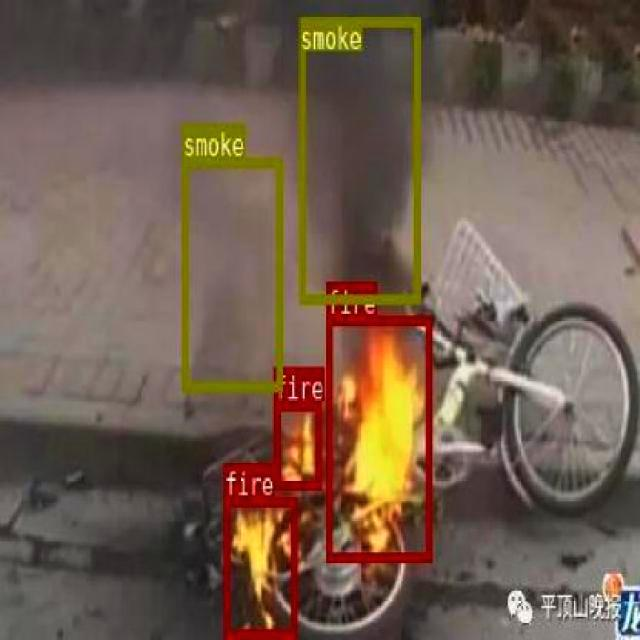fire: (325, 313, 430, 561), (222, 496, 296, 636), (272, 401, 320, 488)
smoke: (298, 16, 418, 302), (182, 156, 282, 390)
